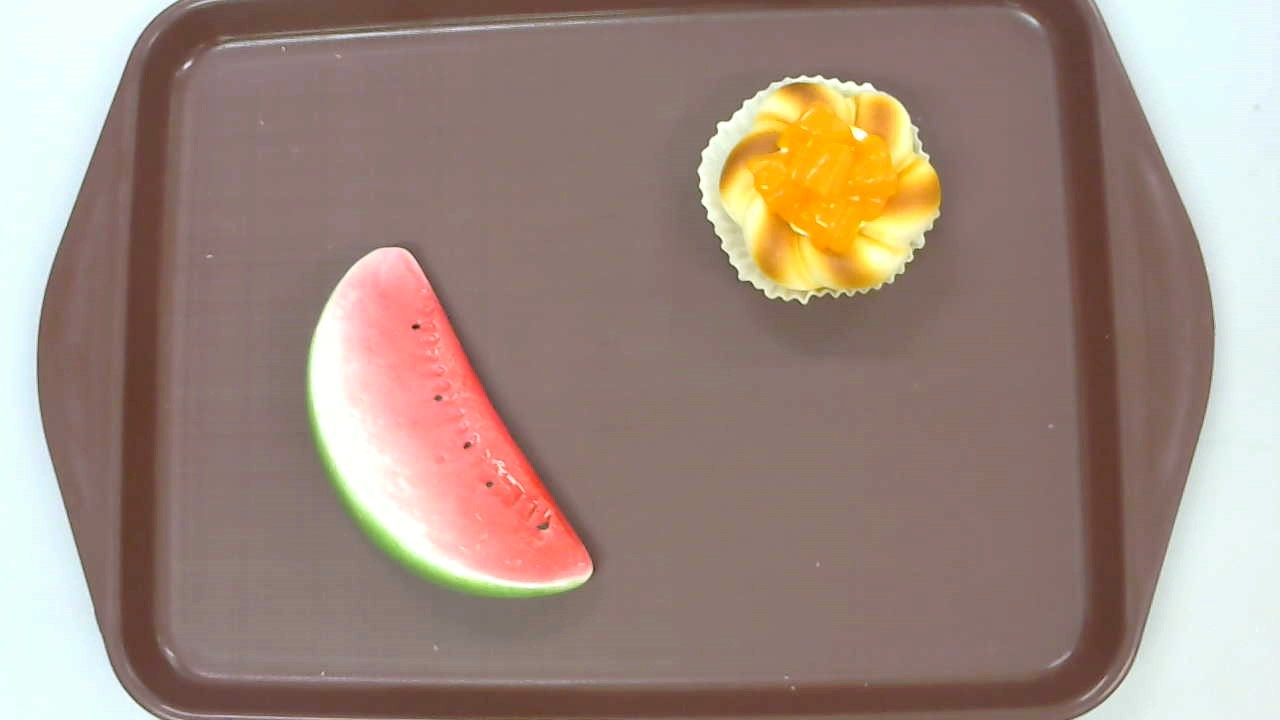mango tart: (695, 75, 941, 309)
water melon: (303, 247, 595, 600)
